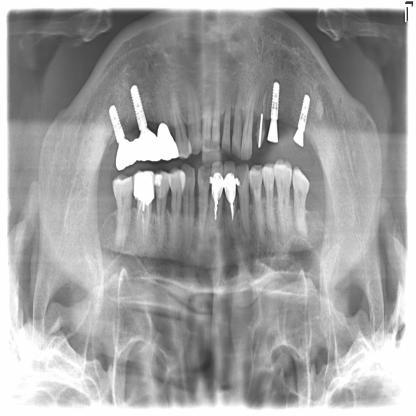ITI: (127, 82, 151, 132), (104, 104, 127, 146), (266, 80, 284, 124), (295, 92, 315, 130)
